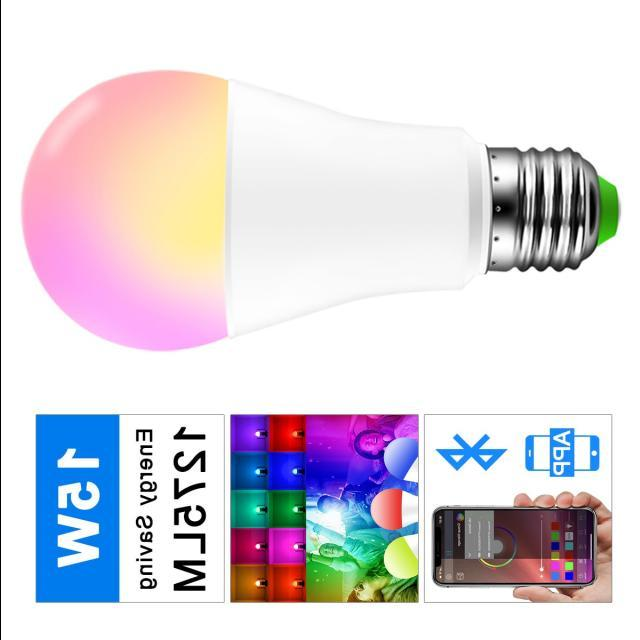light_bulb: (7, 61, 631, 361)
